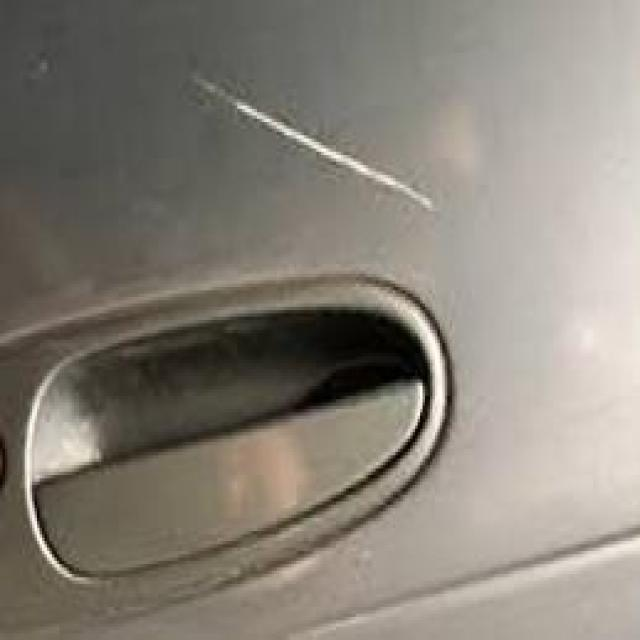scratch: (162, 43, 456, 231)
